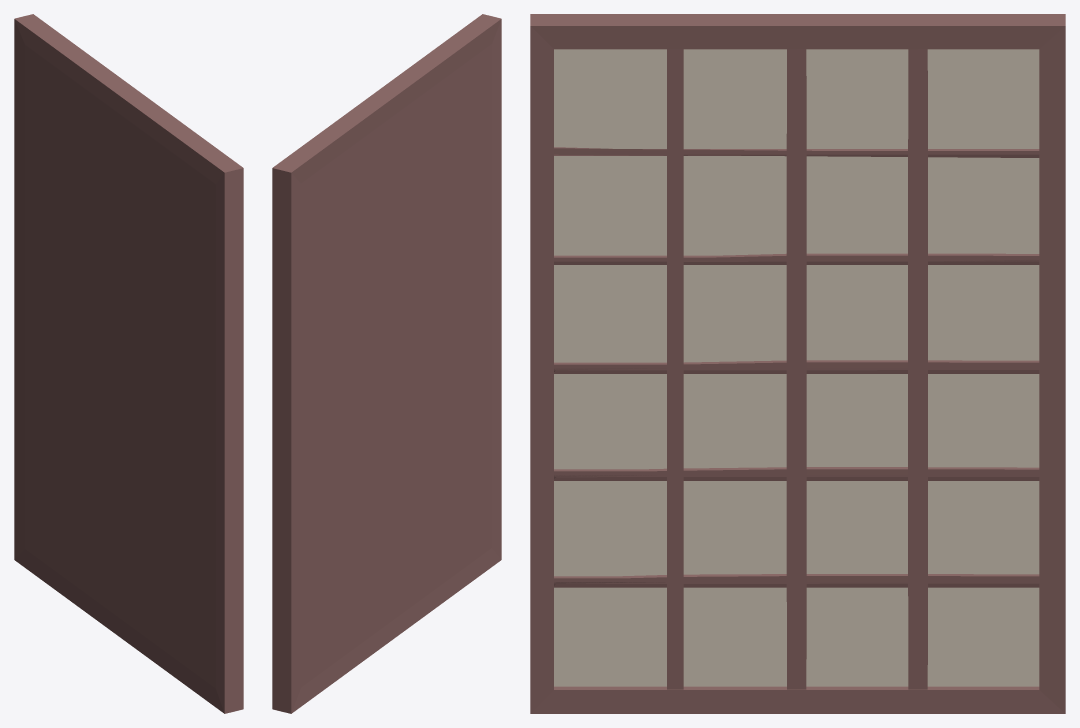
Rendered from GreenHouse.fbx.
3 renders of one model, left to right at view 1: azimuth 30°, elevation 25°; view 2: azimuth 150°, elevation 25°; view 3: azimuth 270°, elevation 25°, orthographic. The views are drawn at different scales.
Parts seen in each view (by area): view 1: Cube; view 2: Cube; view 3: Cube.
Part boxes in pixels (left/top/right/bottom): Cube: left=14, top=14, right=243, bottom=713; Cube: left=272, top=14, right=501, bottom=713; Cube: left=530, top=14, right=1065, bottom=713.
Size of the model in its own units: 33.93 by 920 by 648.
